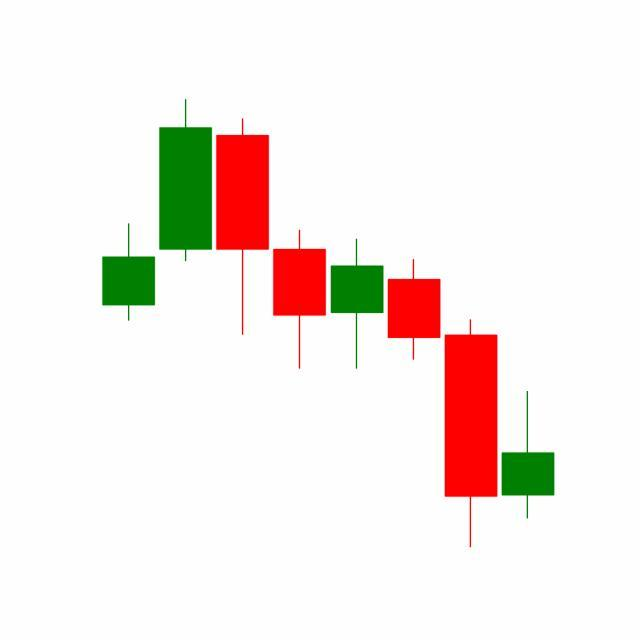Hikkake Pattern: (214, 114, 501, 548)
